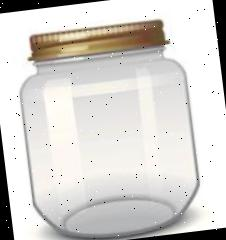glass: (11, 15, 206, 240)
